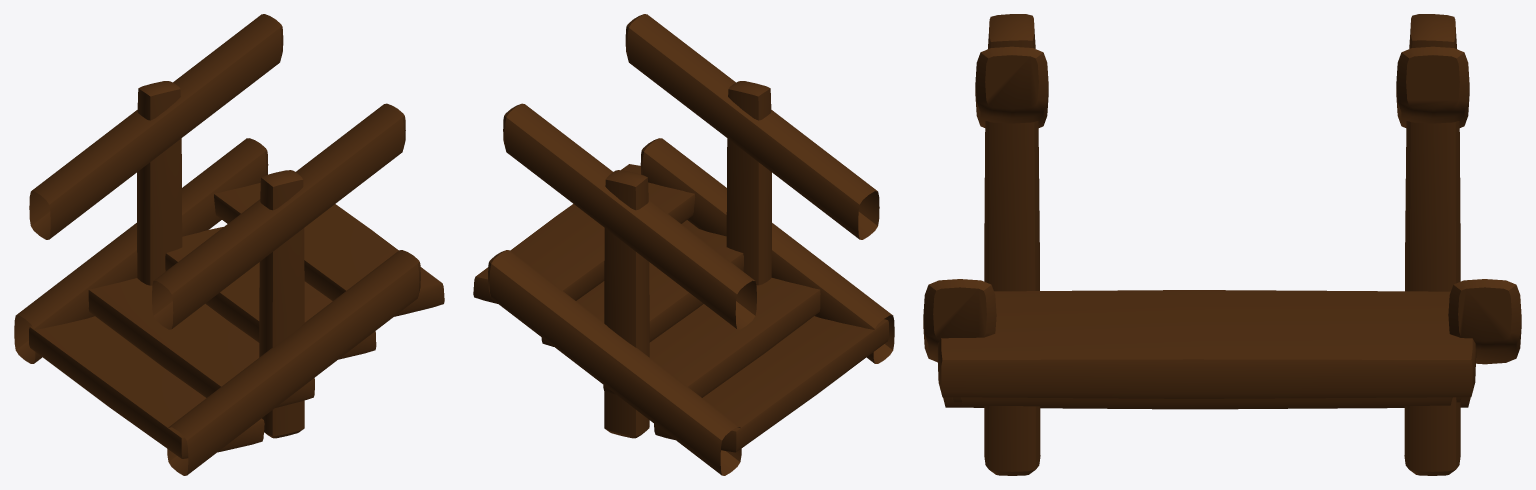
File: Stairs_Modular_End.fbx
3 views of the same model, side by side, from view 1: azimuth 30°, elevation 25°; view 2: azimuth 150°, elevation 25°; view 3: azimuth 270°, elevation 25° (orthographic). The views are drawn at different scales.
Parts seen in each view (by area): view 1: Stairs_Modular_End; view 2: Stairs_Modular_End; view 3: Stairs_Modular_End.
Part boxes in pixels (x1,y1,x2,y2): Stairs_Modular_End: [14, 14, 444, 475]; Stairs_Modular_End: [473, 14, 894, 475]; Stairs_Modular_End: [923, 14, 1521, 475].
Size of the model in its own units: 226 by 242 by 256.
